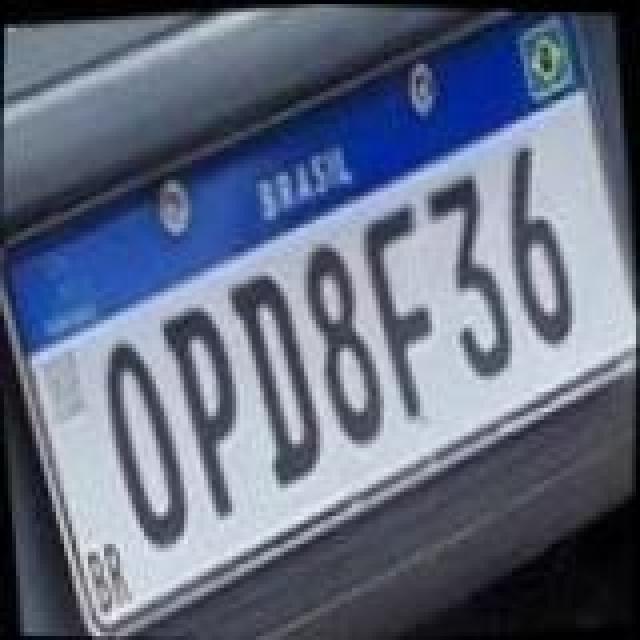3: (420, 166, 520, 378)
6: (500, 138, 580, 346)
8: (294, 234, 390, 446)
D: (224, 268, 332, 492)
F: (358, 198, 446, 422)
O: (98, 336, 198, 552)
P: (156, 302, 252, 522)
